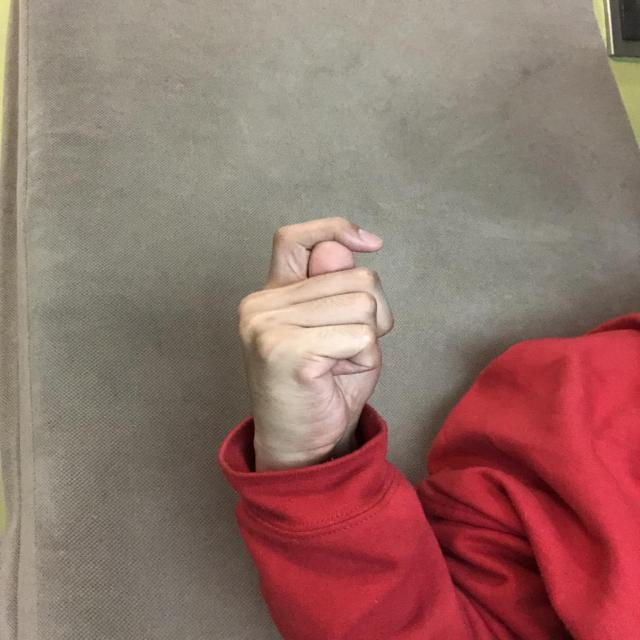T: (233, 215, 400, 453)
